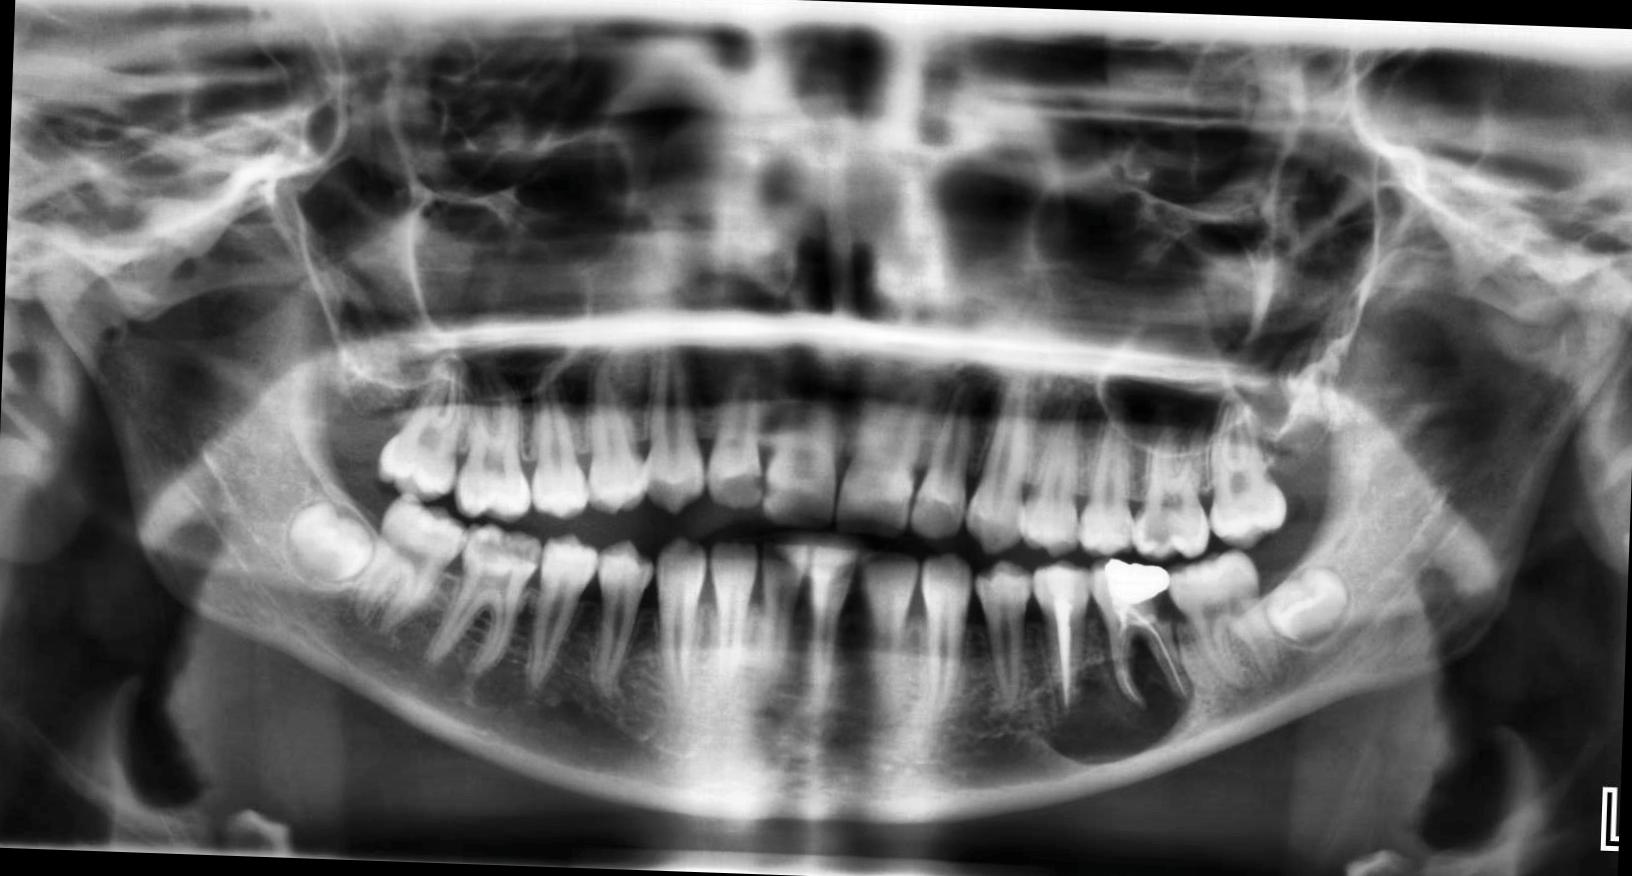radicular: (1025, 648, 1200, 771)
